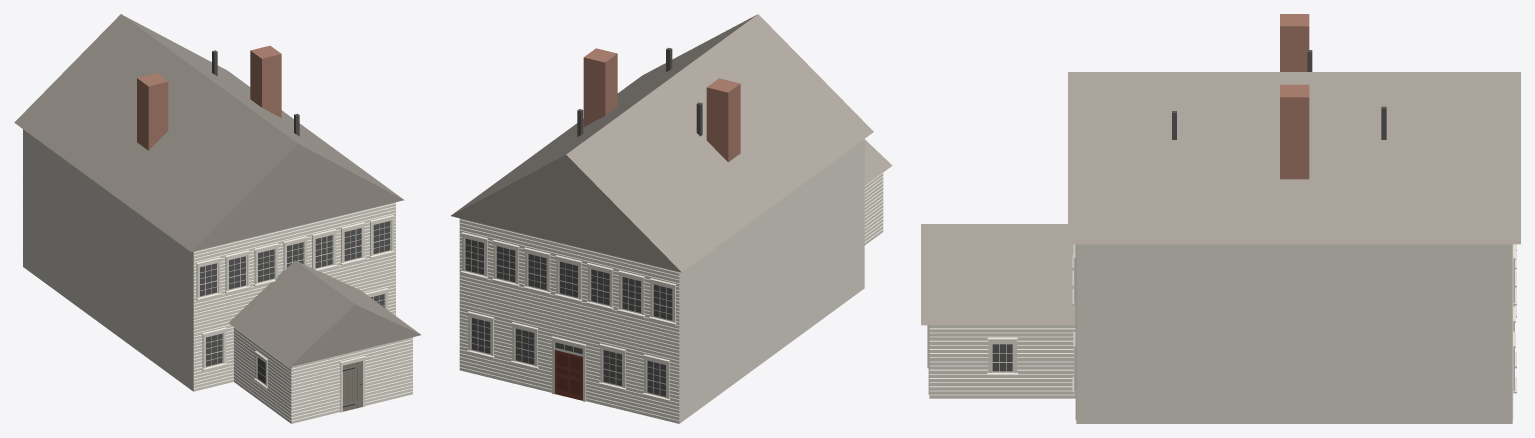
Rendered from recon_1835_core_h3_052__inferred_1835.glb.
The picture shows the model from 3 angles, left to right: view 1: azimuth 30°, elevation 25°; view 2: azimuth 150°, elevation 25°; view 3: azimuth 270°, elevation 25°; orthographic projection. The views are drawn at different scales.
Visible parts, largest first — view 1: recon_1835_core_h3_052__inferred_1835; view 2: recon_1835_core_h3_052__inferred_1835; view 3: recon_1835_core_h3_052__inferred_1835.
Boxes of the visible parts, x1,y1,x2,y2 form: recon_1835_core_h3_052__inferred_1835: (14, 14, 420, 423); recon_1835_core_h3_052__inferred_1835: (451, 14, 892, 423); recon_1835_core_h3_052__inferred_1835: (921, 14, 1520, 423).
Size of the model in its own units: 9.65 by 10.3 by 18.35.
